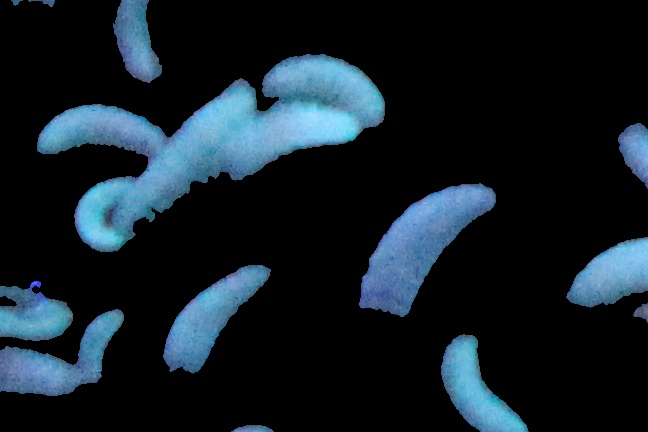larvae: (355, 181, 500, 326), (139, 84, 247, 245), (164, 262, 270, 389), (223, 100, 353, 203), (268, 56, 383, 123), (36, 107, 165, 162), (73, 168, 134, 256), (109, 0, 170, 84), (5, 0, 185, 25), (76, 307, 124, 389)
